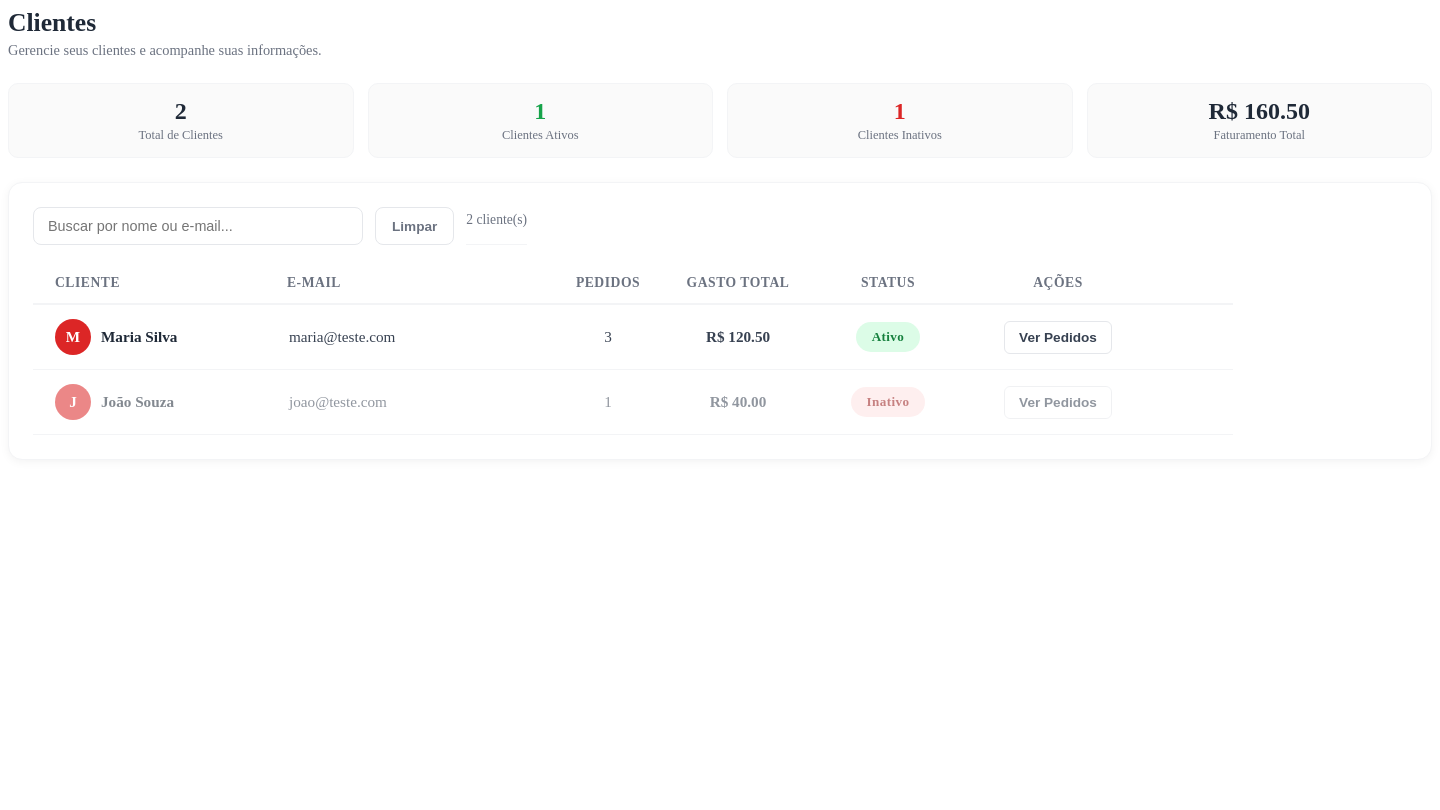
AdminClientes › cliente sem nenhum pedido mostra mensagem de vazio
This screenshot has width=1440, height=810.
expect the text "Maria Silva" is shown: met, box [101,328,177,346]
Click the button "Ver Pedidos" in the row of "Maria Silva": (1058, 337) [1004,320,1112,354]
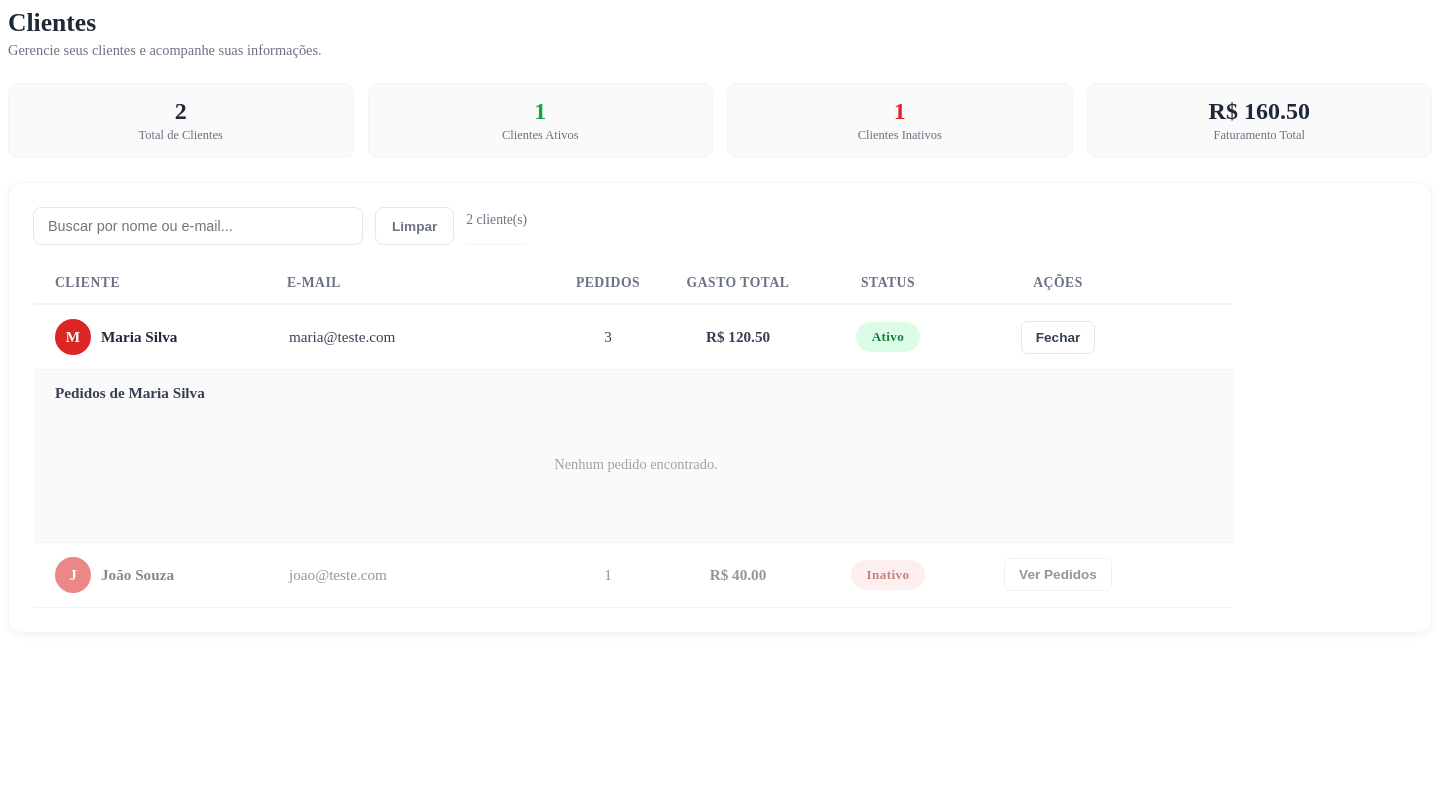
expect the text "Nenhum pedido encontrado." is shown: met, box [554,456,718,472]
